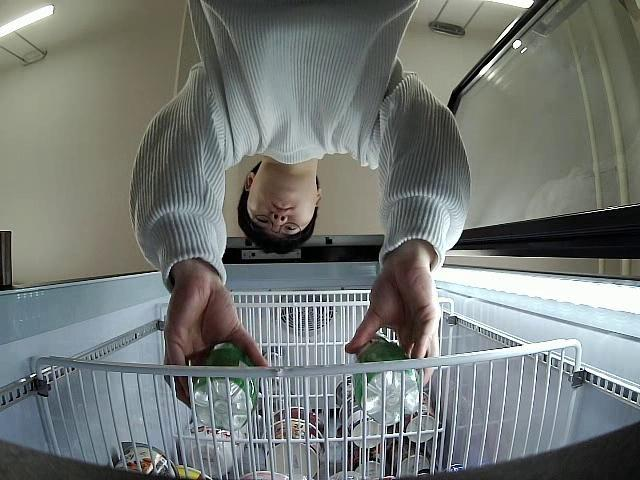18_trevi: (352, 335, 423, 424), (192, 344, 262, 432)
